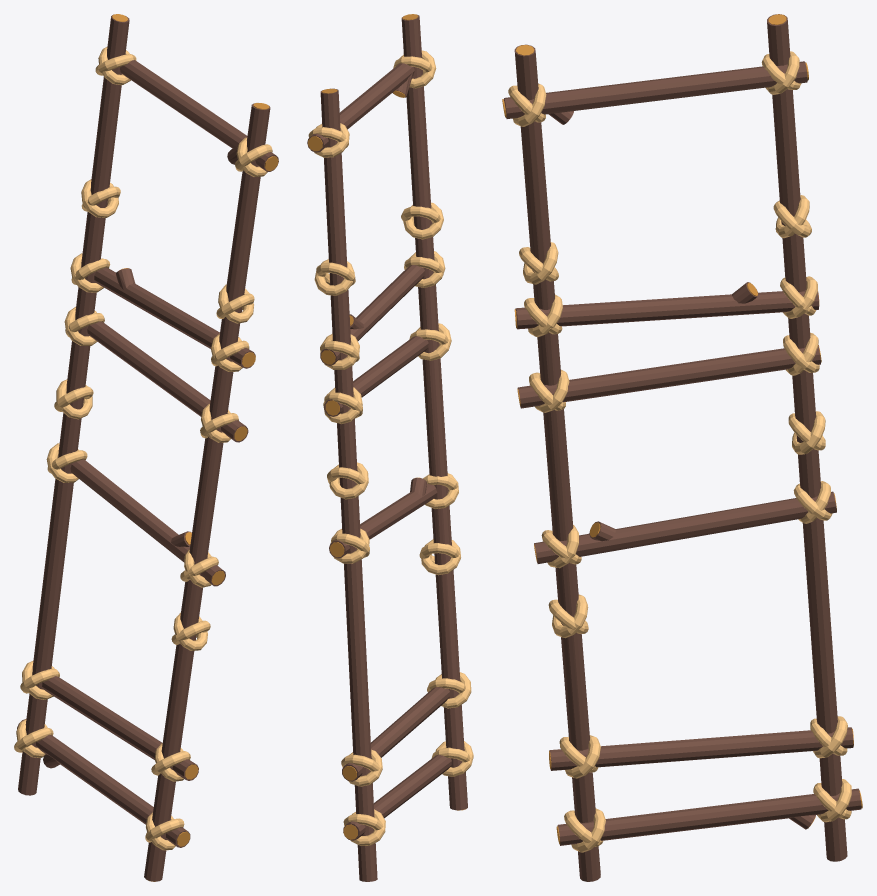
3 renders of one model, left to right at view 1: azimuth 30°, elevation 25°; view 2: azimuth 150°, elevation 25°; view 3: azimuth 270°, elevation 25°, orthographic. The views are drawn at different scales.
Parts seen in each view (by area): view 1: mesh_1147651778, mesh_735832526, mesh_940978571, mesh_1526910916, mesh_222756824, mesh_477564132, mesh_45701191, mesh_1519229772, mesh_1586013050, mesh_2089270450; view 2: mesh_735832526, mesh_1147651778, mesh_45701191, mesh_222756824, mesh_1519229772, mesh_1526910916, mesh_940978571, mesh_477564132, mesh_1673322775, mesh_128972753, mesh_1632275641, mesh_1632394277 (+26 smaller); view 3: mesh_1147651778, mesh_735832526, mesh_1526910916, mesh_940978571, mesh_222756824, mesh_477564132, mesh_45701191, mesh_1519229772.
Part boxes in pixels (x1=…): mesh_1147651778: x1=18, y1=14, x2=129, y2=795; mesh_735832526: x1=144, y1=103, x2=270, y2=881; mesh_940978571: x1=87, y1=321, x2=248, y2=442; mesh_1526910916: x1=120, y1=54, x2=278, y2=171; mesh_222756824: x1=17, y1=719, x2=190, y2=847; mesh_477564132: x1=70, y1=459, x2=225, y2=586; mesh_45701191: x1=42, y1=676, x2=198, y2=780; mesh_1519229772: x1=94, y1=267, x2=255, y2=368; mesh_1586013050: x1=81, y1=179, x2=118, y2=217; mesh_2089270450: x1=56, y1=379, x2=92, y2=419; mesh_735832526: x1=401, y1=15, x2=467, y2=810; mesh_1147651778: x1=320, y1=88, x2=377, y2=881; mesh_45701191: x1=342, y1=687, x2=449, y2=781; mesh_222756824: x1=343, y1=755, x2=451, y2=840; mesh_1519229772: x1=320, y1=265, x2=424, y2=365; mesh_1526910916: x1=307, y1=63, x2=414, y2=152; mesh_940978571: x1=324, y1=336, x2=428, y2=416; mesh_477564132: x1=329, y1=483, x2=437, y2=558; mesh_1673322775: x1=329, y1=462, x2=368, y2=499; mesh_128972753: x1=403, y1=202, x2=443, y2=239; mesh_1632275641: x1=421, y1=539, x2=460, y2=575; mesh_1632394277: x1=314, y1=259, x2=354, y2=295; mesh_1147651778: x1=767, y1=14, x2=847, y2=861; mesh_735832526: x1=514, y1=44, x2=600, y2=881; mesh_1526910916: x1=504, y1=61, x2=807, y2=118; mesh_940978571: x1=517, y1=345, x2=820, y2=408; mesh_222756824: x1=557, y1=788, x2=861, y2=845; mesh_477564132: x1=534, y1=491, x2=836, y2=563; mesh_45701191: x1=549, y1=727, x2=853, y2=770; mesh_1519229772: x1=515, y1=290, x2=819, y2=329.
Bounding box in the file's own units: 59.01 × 366 × 135.
